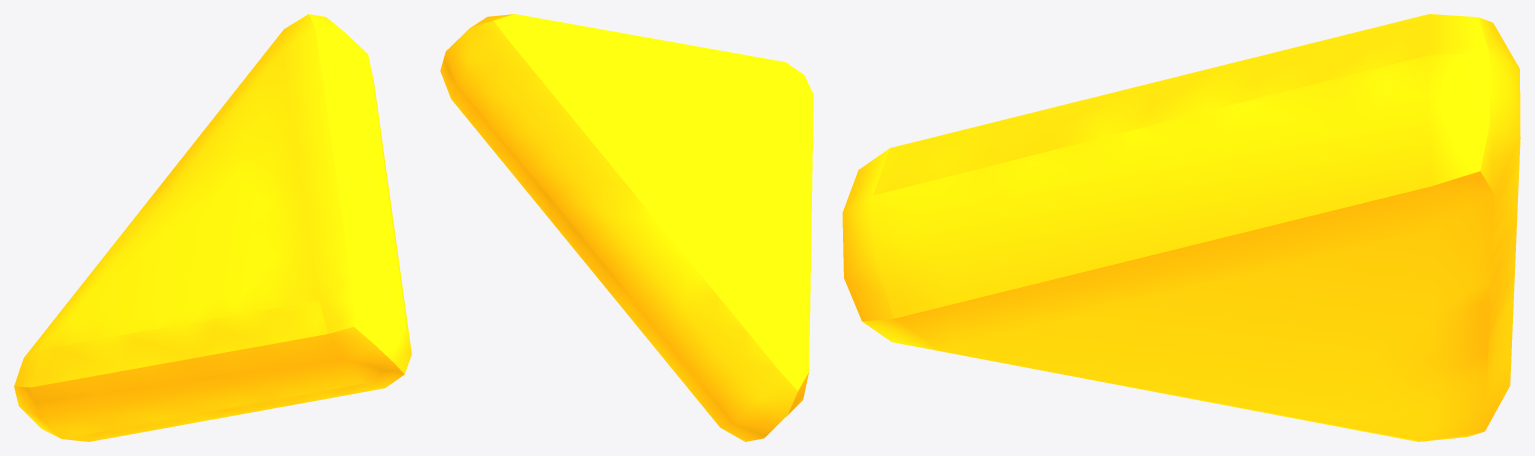
Rendered from C_Botom_Web.glb.
The picture shows the model from 3 angles, left to right: view 1: azimuth 30°, elevation 25°; view 2: azimuth 150°, elevation 25°; view 3: azimuth 270°, elevation 25°; orthographic projection. The views are drawn at different scales.
Visible parts, largest first — view 1: pCube3; view 2: pCube3; view 3: pCube3.
Boxes of the visible parts, left/top/right/bottom form: pCube3: left=14, top=14, right=411, bottom=441; pCube3: left=440, top=14, right=813, bottom=441; pCube3: left=842, top=14, right=1520, bottom=441.
Size of the model in its own units: 0.00806 by 0.00791 by 0.0077.
1 material, 1 textured.
